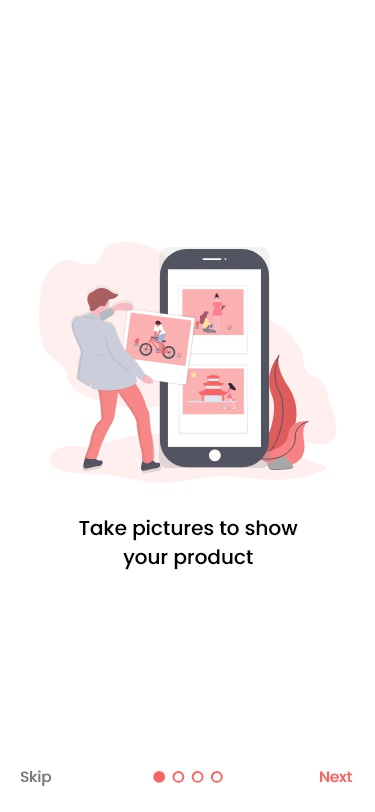Image: (39, 242, 336, 483)
PageIndicator: (153, 770, 224, 784)
Text: (79, 519, 299, 571), (21, 769, 53, 787), (319, 770, 353, 783)
